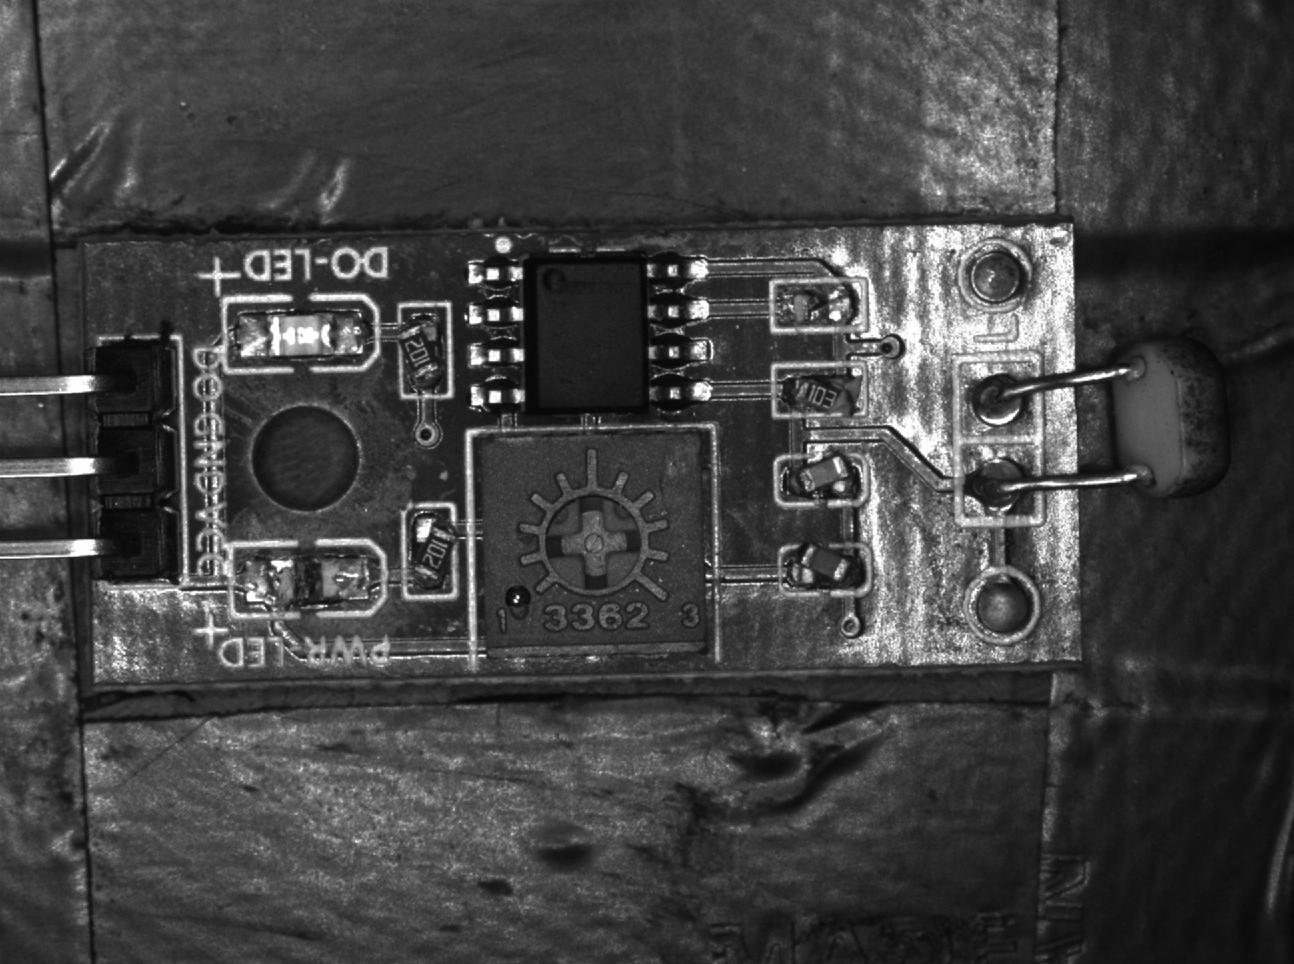bridge: (771, 283, 867, 333)
lifted: (394, 304, 454, 398), (770, 364, 869, 419), (404, 502, 459, 599), (773, 544, 871, 594), (776, 456, 870, 506)
